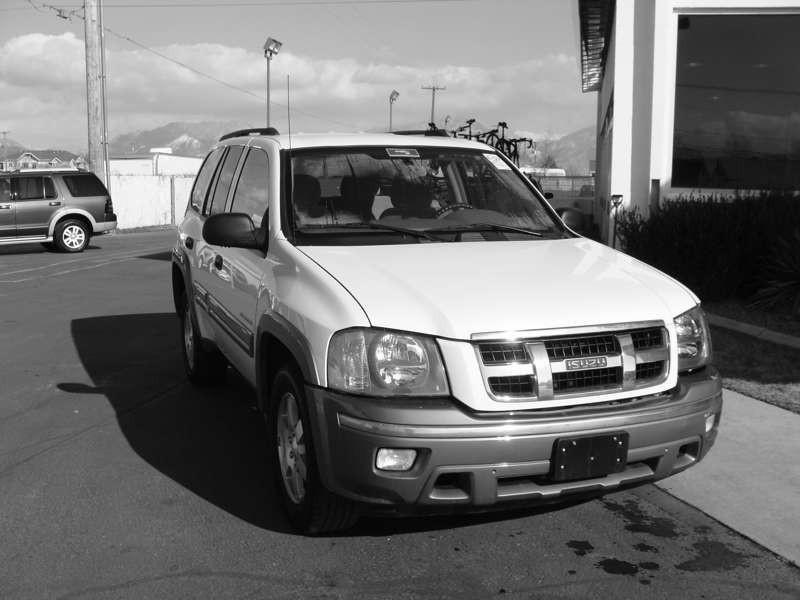car: (166, 126, 729, 538)
